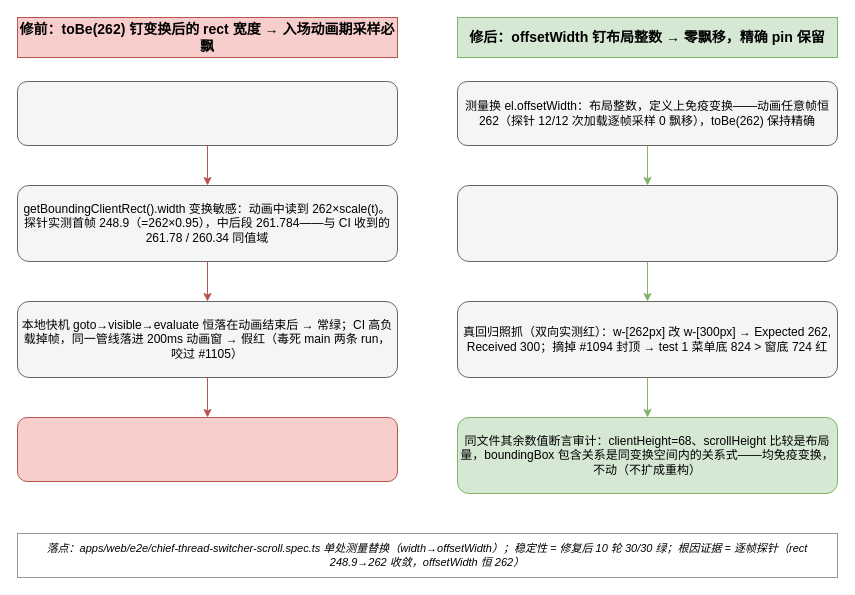
This 855x595 diagram has some shape labels left out. The box of each missing label's shape, as (x1, y1, x2, y2) in pixels:
toBe(262) 精确等值撞上飘移采样 = 亚像素假红；而它想钉的事实（布局宽度未被 #1094 改动）从未变过: (16, 416, 398, 482)
为何不用容差：最坏采样落动画首帧，ε 需 ≥13.1px 才不飘——该容差会吞掉同量级真回归；offsetWidth 零飘移，无须用精度换稳定: (456, 184, 838, 262)
总管窗进场腿 zoom-in-95：scale 0.95→1，时长 200ms（WINDOW_MOTION_CLS）；主题切换器菜单随整窗一起被变换: (16, 80, 398, 146)
